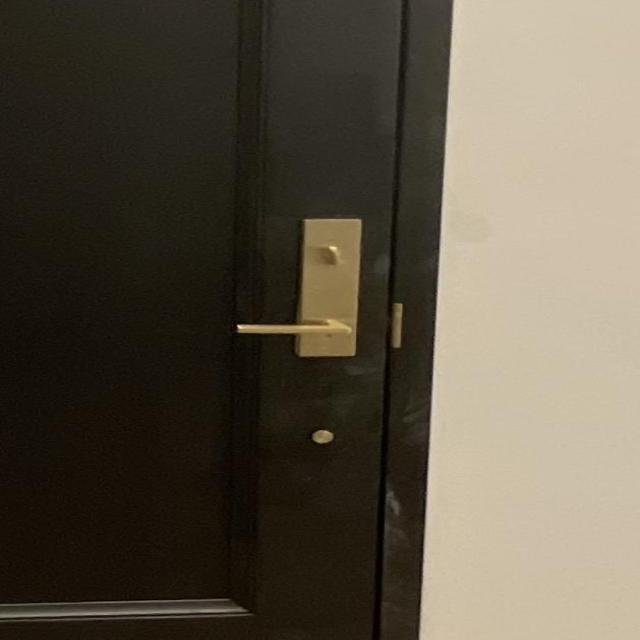door_handle: (221, 304, 378, 354)
